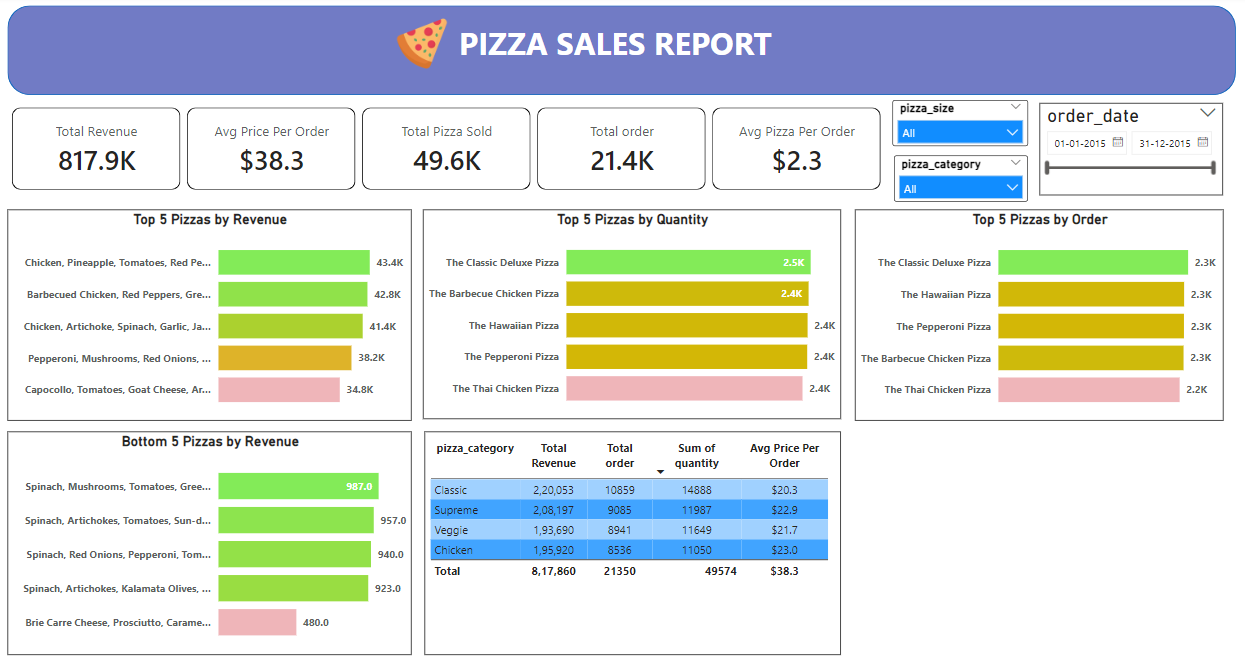

The dashboard page shown, as its layout file describes it:
{"tool":"powerbi","page":{"name":"Product","canvas":[1500,800],"ordinal":1},"visuals":[{"type":"shape","box":[16.6,12.9,1473,107],"z":0},{"type":"cardVisual","fields":{"Data":["Measure.Total Revenue","Measure.Avg Price Per Order","Measure.Total Pizza","Measure.Total order","Measure.Avg Pizza Per Order"]},"box":[16.6,129.5,1054.3,109.1],"z":1000},{"type":"textbox","box":[548.7,27,393,66.6],"z":2000},{"type":"image","box":[466.1,27.7,94.3,62.9],"z":3000},{"type":"barChart","title":"Top 5 Pizzas by Revenue","fields":{"Y":["Measure.Total Revenue"],"Category":["pizza_sales.pizza_ingredients"]},"box":[16.6,257.1,484.6,253.4],"z":4000},{"type":"barChart","title":"Top 5 Pizzas by Order","fields":{"Category":["pizza_sales.pizza_name"],"Y":["Measure.Total order"]},"box":[1032.1,257.1,442,253.4],"z":5000},{"type":"barChart","title":"Top 5 Pizzas by Quantity","fields":{"Category":["pizza_sales.pizza_name"],"Y":["Sum(pizza_sales.quantity)"]},"box":[514.2,257.1,501.2,251.5],"z":6000},{"type":"barChart","title":"Bottom 5 Pizzas by Revenue","fields":{"Category":["pizza_sales.pizza_ingredients"],"Y":["CountNonNull(pizza_sales.pizza_ingredients)"]},"box":[16.6,523.4,484.6,268.2],"z":7000},{"type":"tableEx","title":"Bottom 5 Pizzas by Total Order","fields":{"Values":["pizza_sales.pizza_category","Measure.Total Revenue","Measure.Total order","Sum(pizza_sales.quantity)","Measure.Avg Price Per Order"]},"box":[516,523.4,499.4,268.2],"z":8000},{"type":"slicer","fields":{"Values":["pizza_sales.order_date"]},"box":[1254,129.5,220.1,111],"z":9000},{"type":"slicer","fields":{"Values":["pizza_sales.pizza_category"]},"box":[1079.5,192.4,160.9,55.5],"z":10000},{"type":"slicer","fields":{"Values":["pizza_sales.pizza_size"]},"box":[1077.7,125.2,162.8,55.5],"z":11000}]}

Visuals, with their boxes in screenshot pixels (x1, y1, x2, y2), scaled from the page's 1500x800 canvas onto the 1245x662 screenshot:
shape: left=14, top=11, right=1236, bottom=99
cardVisual - Measure.Total Revenue x Measure.Avg Price Per Order: left=14, top=107, right=889, bottom=197
textbox: left=455, top=22, right=782, bottom=77
image: left=387, top=23, right=465, bottom=75
"Top 5 Pizzas by Revenue" barChart: left=14, top=213, right=416, bottom=422
"Top 5 Pizzas by Order" barChart: left=857, top=213, right=1224, bottom=422
"Top 5 Pizzas by Quantity" barChart: left=427, top=213, right=843, bottom=421
"Bottom 5 Pizzas by Revenue" barChart: left=14, top=433, right=416, bottom=655
"Bottom 5 Pizzas by Total Order" tableEx: left=428, top=433, right=843, bottom=655
slicer - pizza_sales.order_date: left=1041, top=107, right=1224, bottom=199
slicer - pizza_sales.pizza_category: left=896, top=159, right=1030, bottom=205
slicer - pizza_sales.pizza_size: left=894, top=104, right=1030, bottom=150
